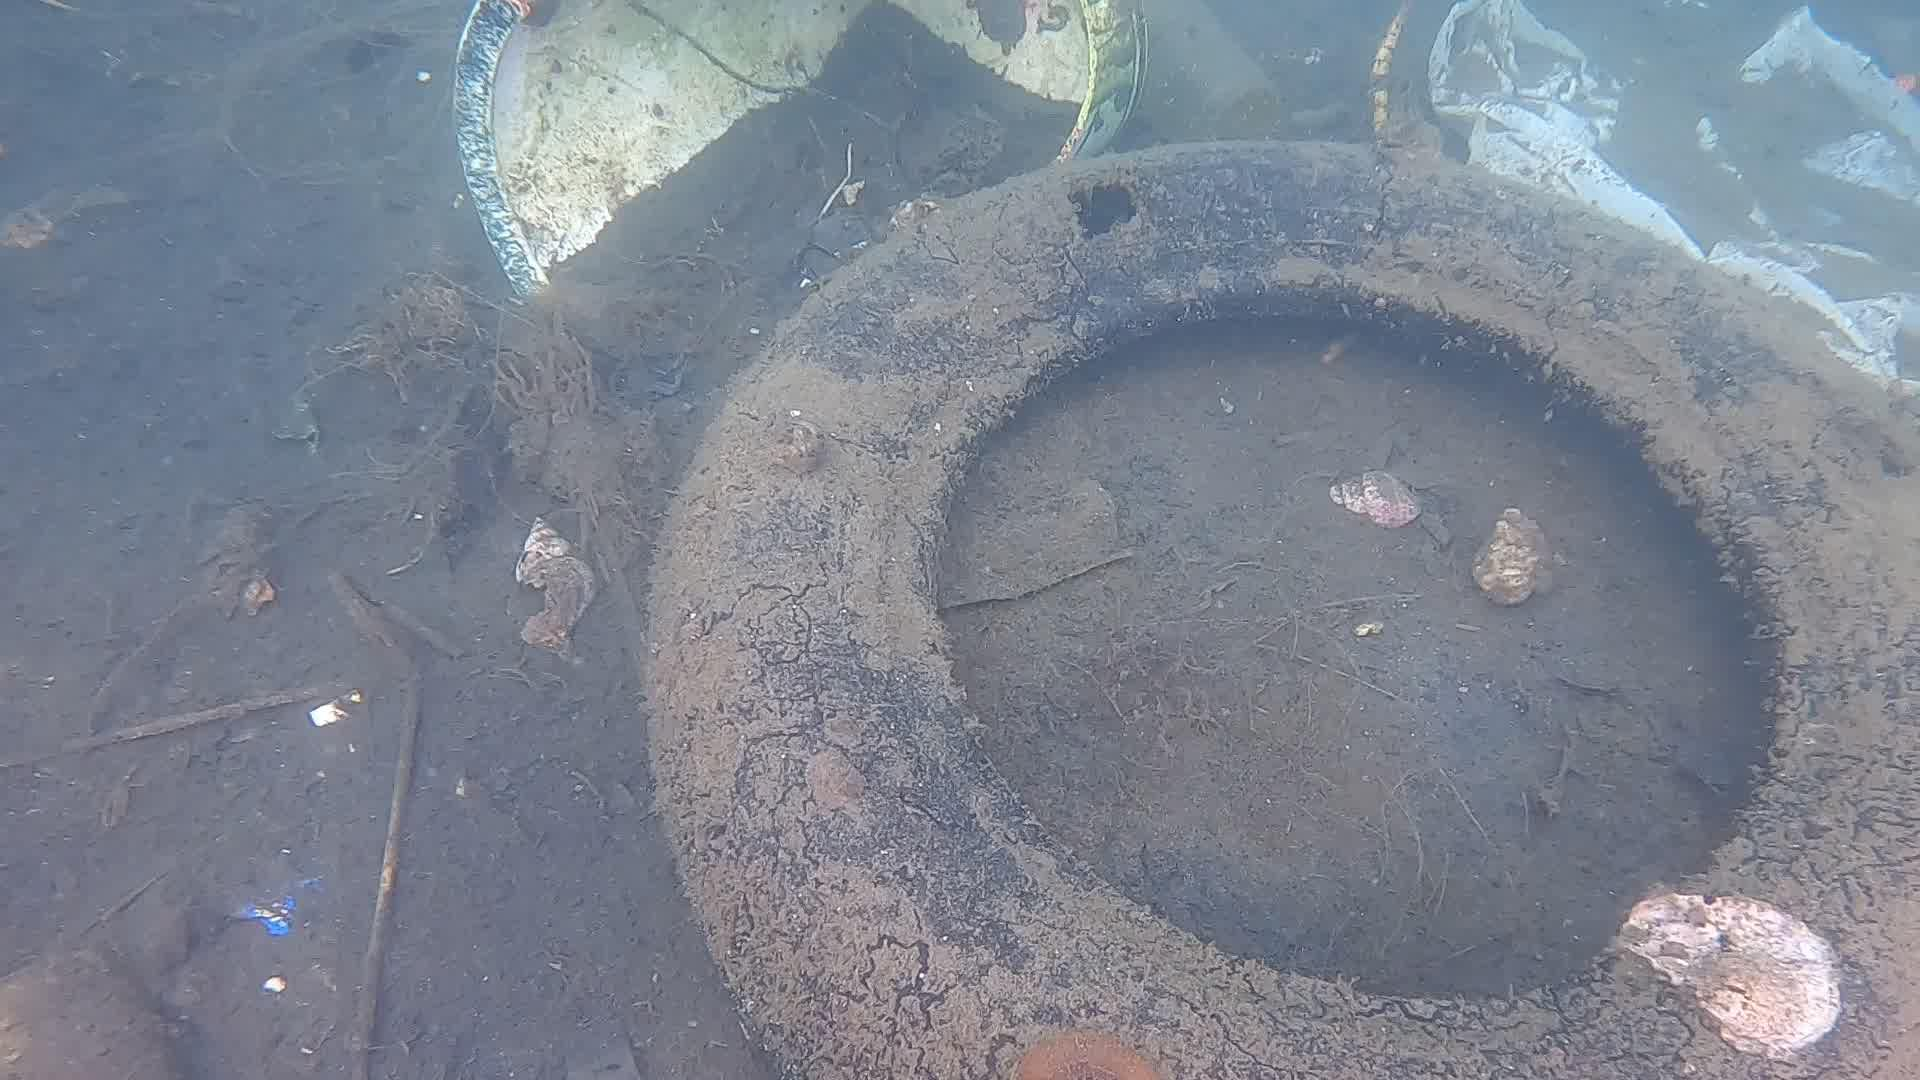tire: (636, 133, 1920, 1080)
